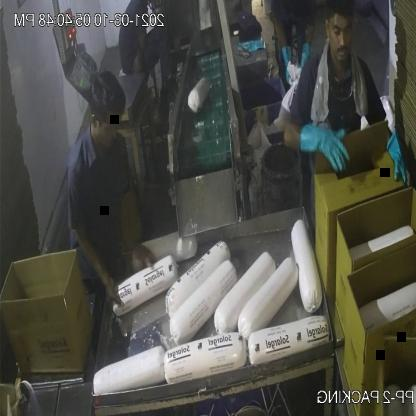glove: (299, 110, 351, 180), (380, 128, 411, 196)
no_glove: (63, 202, 123, 312), (114, 179, 157, 283)
